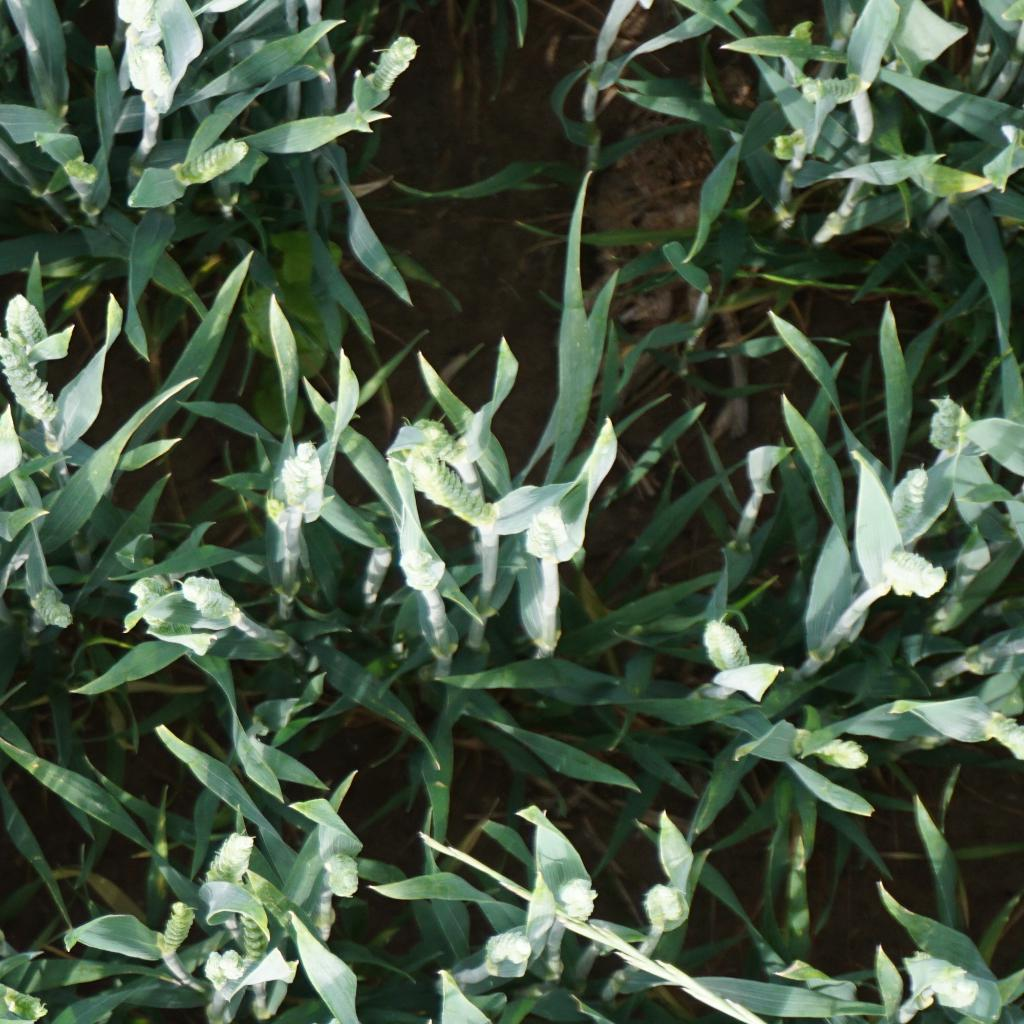0-0: (391, 443, 494, 527), (0, 336, 56, 421), (279, 434, 327, 522), (174, 135, 254, 186), (787, 724, 865, 773), (882, 542, 946, 596), (202, 829, 259, 885), (133, 24, 171, 107), (696, 622, 755, 674), (367, 33, 418, 89), (528, 500, 571, 565), (888, 467, 931, 531), (401, 419, 464, 459), (179, 572, 235, 615), (152, 899, 195, 952), (132, 570, 175, 623), (195, 941, 246, 985), (979, 711, 1024, 759), (4, 291, 41, 349), (927, 968, 977, 1010), (551, 875, 596, 921), (318, 854, 361, 901), (808, 68, 869, 101), (934, 395, 969, 450), (644, 880, 684, 926), (481, 927, 529, 963), (31, 591, 76, 629), (239, 898, 265, 960), (406, 543, 437, 588), (61, 154, 97, 183)
